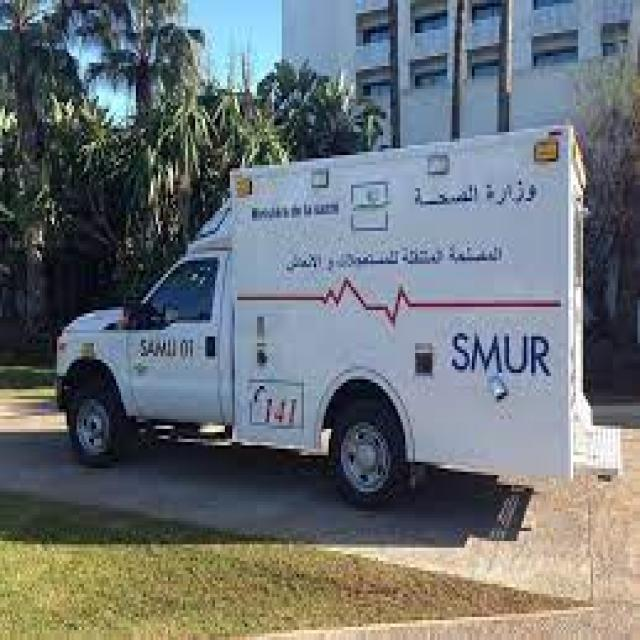ambulance: (38, 110, 634, 574)
